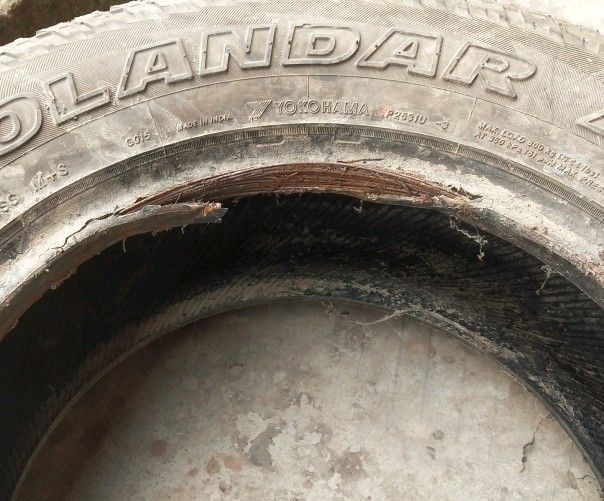bead_damage: (18, 136, 603, 306)
